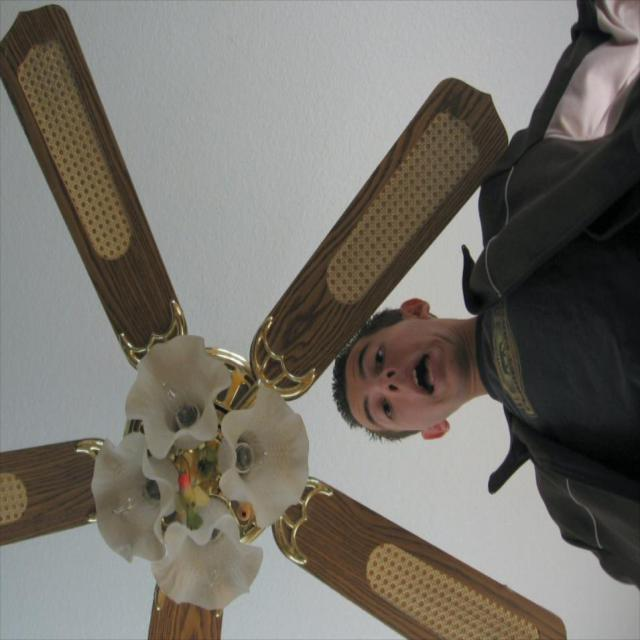bulb_off: (154, 378, 192, 429), (240, 442, 287, 471), (110, 494, 161, 515)
fan_off: (0, 3, 569, 640)
